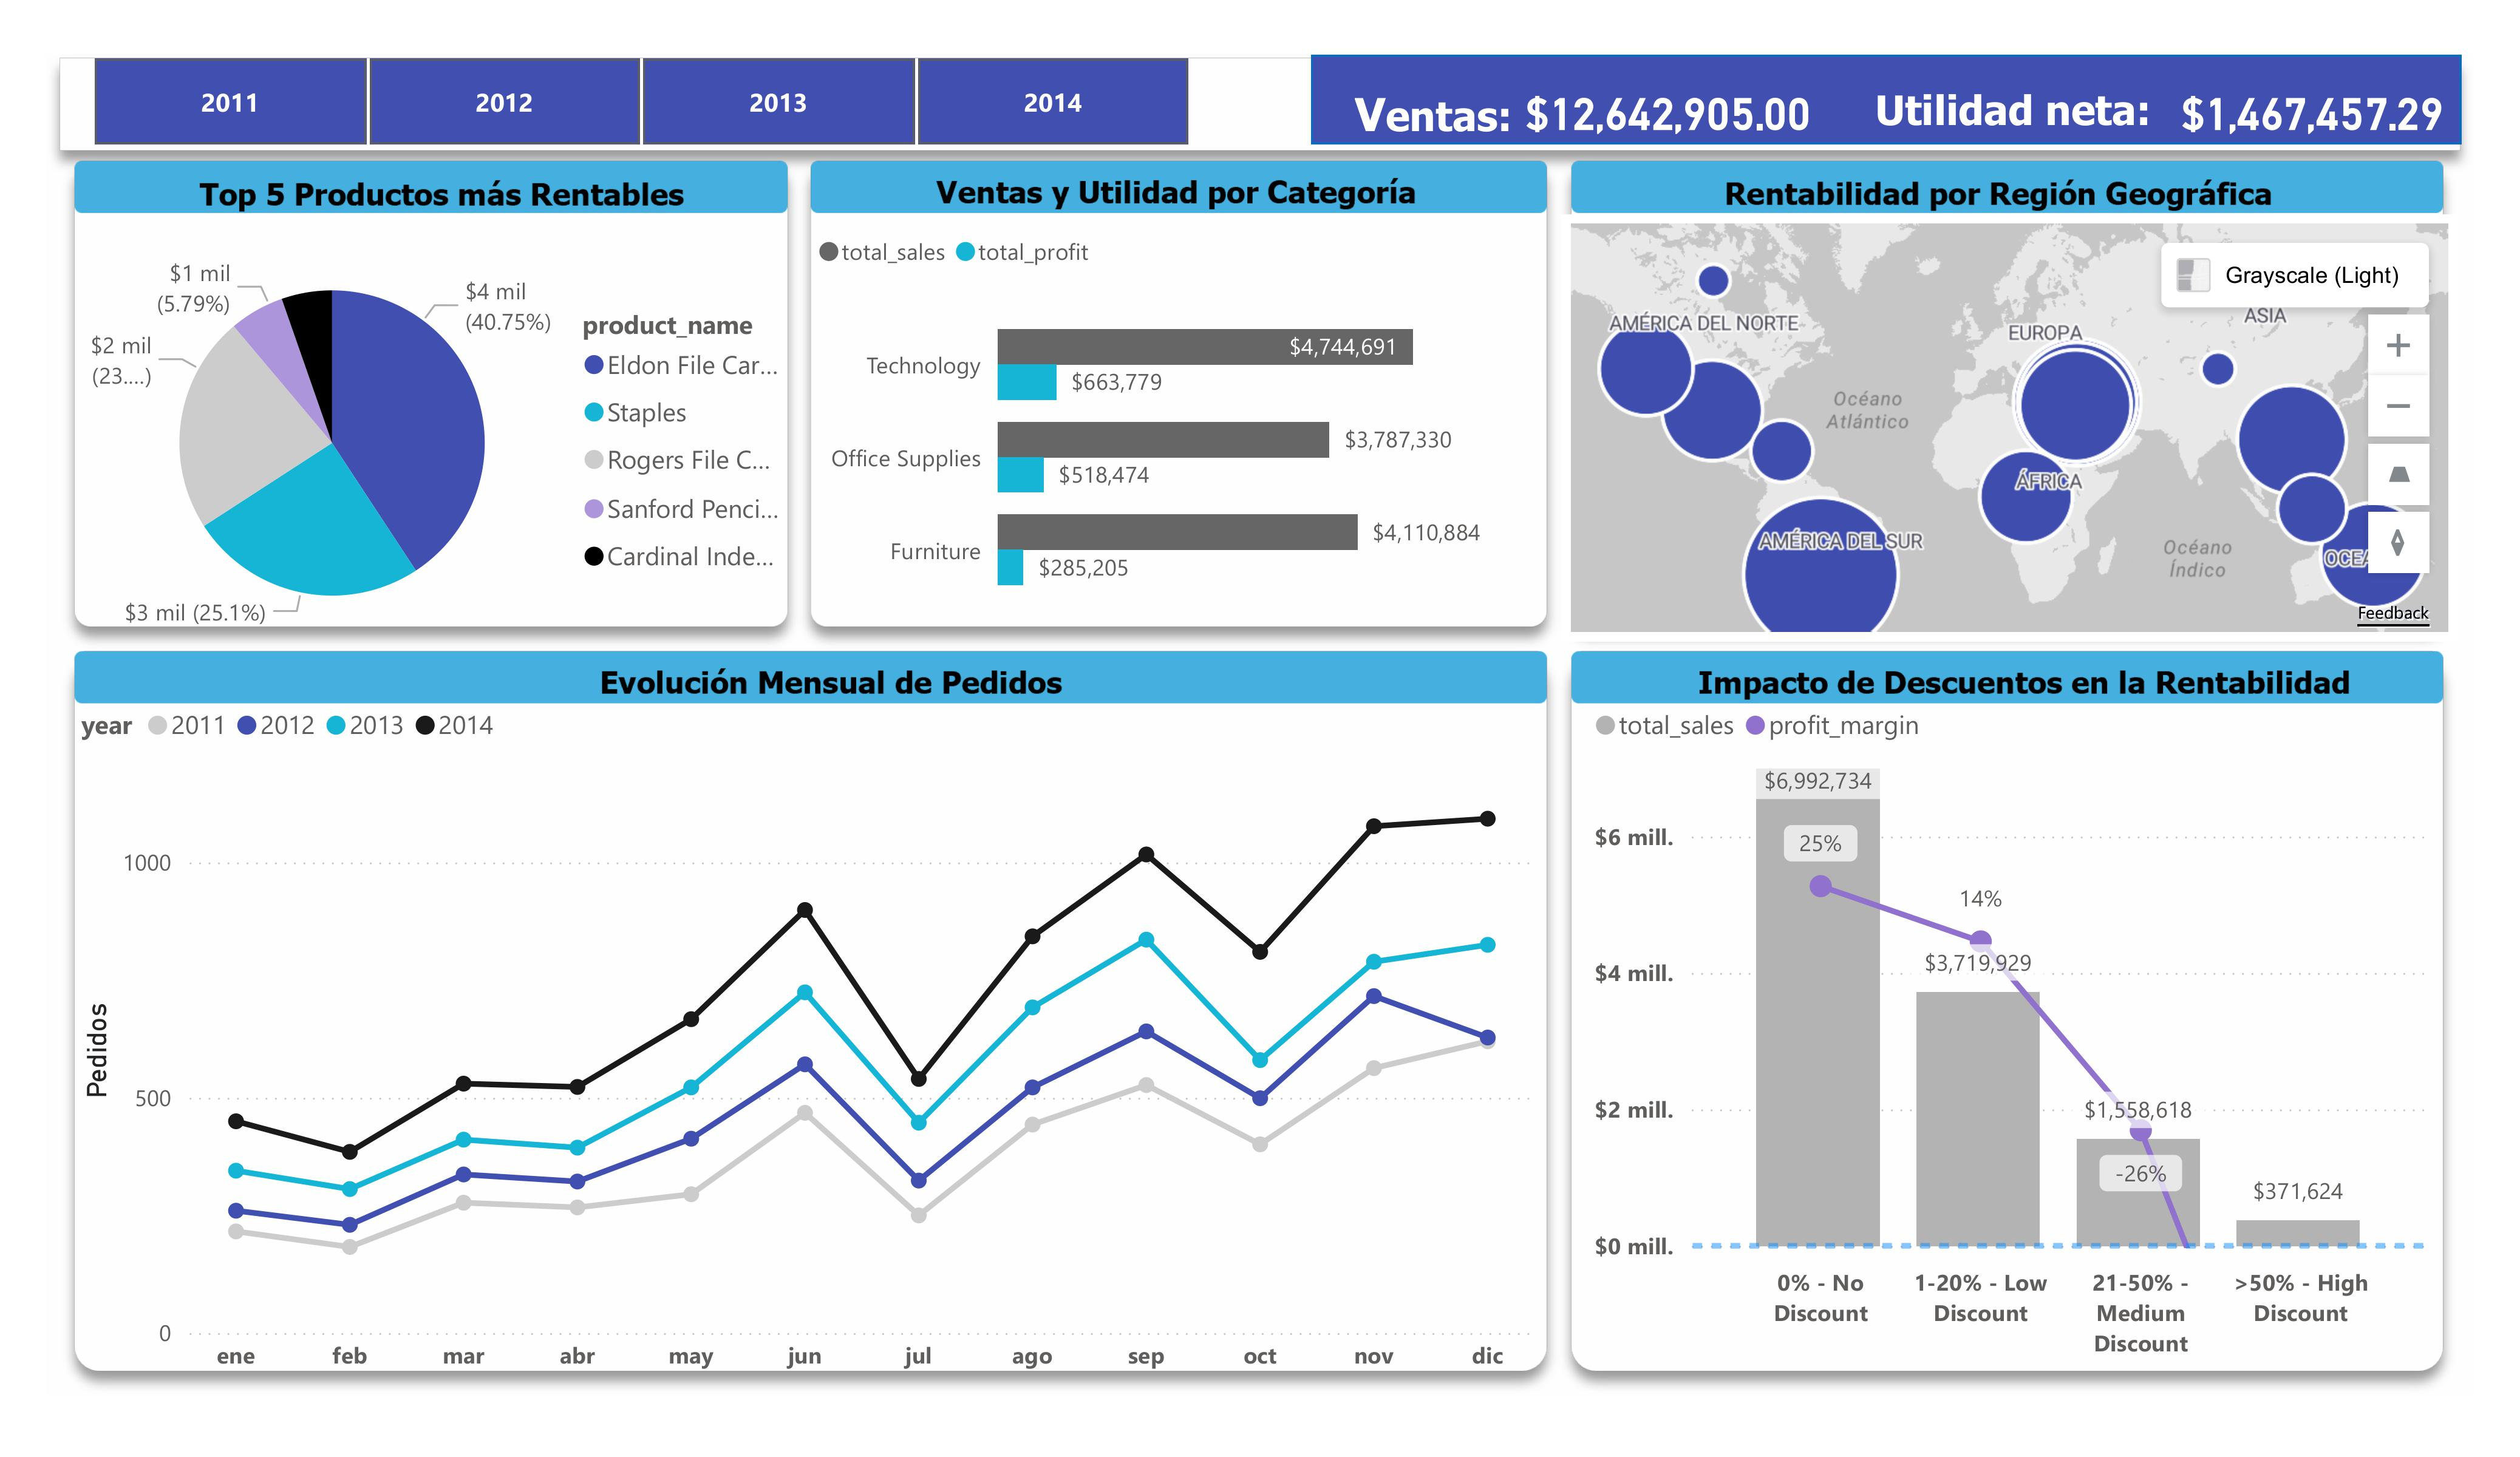

The dashboard page shown, as its layout file describes it:
{"tool":"powerbi","page":{"name":"Desempeño Global","canvas":[1280,720],"ordinal":0},"visuals":[{"type":"shape","box":[666.9,5.5,606.5,46.7],"z":0},{"type":"azureMap","title":"Total profit por region","fields":{"Category":["Global_Superstore_Clean.region"],"Size":["Global_Superstore_Clean.total_profit"]},"box":[798.6,89.2,472,225],"z":1000},{"type":"lineClusteredColumnComboChart","title":"Impacto de Descuentos en la Rentabilidad","fields":{"Category":["Global_Superstore_Clean.discount_range"],"Y":["Global_Superstore_Clean.total_sales"],"Y2":["Global_Superstore_Clean.profit_margin"]},"box":[811,337.6,450.1,362.3],"z":2000},{"type":"lineChart","title":"Evolución Mensual de Pedidos","fields":{"Category":["Global_Superstore_Clean.Month Name"],"Y":["Global_Superstore_Clean.total_orders"],"Series":["Global_Superstore_Clean.year"]},"box":[13.7,337.6,775.3,371.9],"z":3000},{"type":"clusteredBarChart","title":"Ventas y Utilidad por Categoría","fields":{"Category":["Global_Superstore_Clean.category"],"Y":["Global_Superstore_Clean.total_sales","Global_Superstore_Clean.total_profit"]},"box":[402.1,89.2,387,222.3],"z":4000},{"type":"slicer","fields":{"Values":["Global_Superstore_Clean.year"]},"box":[0,0,625.7,59],"z":5000},{"type":"card","fields":{"Values":["Global_Superstore_Clean.total_sales"]},"box":[739.6,16.5,230.5,38.4],"z":6000},{"type":"textbox","box":[684.7,16.5,141.3,42.5],"z":7000},{"type":"card","fields":{"Values":["Global_Superstore_Clean.total_profit"]},"box":[1108.8,16.5,171.5,38.4],"z":8000},{"type":"pieChart","title":"Top 5 Productos más Rentables","fields":{"Category":["Global_Superstore_Clean.product_name"],"Y":["Global_Superstore_Clean.total_profit"]},"box":[13.7,59,388.3,300.5],"z":9000},{"type":"textbox","box":[959.2,16.5,164.7,35.7],"z":10000}]}

Visuals, with their boxes in screenshot pixels (x1, y1, x2, y2):
shape: box(1308, 50, 2443, 137)
"Total profit por region" azureMap: box(1555, 206, 2439, 628)
"Impacto de Descuentos en la Rentabilidad" lineClusteredColumnComboChart: box(1578, 671, 2421, 1350)
"Evolución Mensual de Pedidos" lineChart: box(85, 671, 1537, 1368)
"Ventas y Utilidad por Categoría" clusteredBarChart: box(812, 206, 1537, 623)
slicer - Global_Superstore_Clean.year: box(59, 39, 1231, 150)
card - Global_Superstore_Clean.total_sales: box(1444, 70, 1876, 142)
textbox: box(1341, 70, 1606, 150)
card - Global_Superstore_Clean.total_profit: box(2136, 70, 2457, 142)
"Top 5 Productos más Rentables" pieChart: box(85, 150, 812, 713)
textbox: box(1855, 70, 2164, 137)
